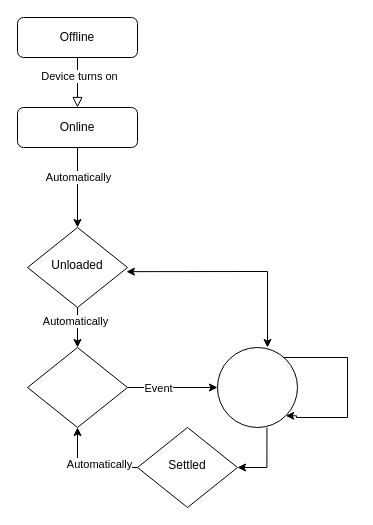
Some shapes in this 373 by 525 pixel diagram are drawn without their labels. The box of each missing label's shape, as (x1, y1, x2, y2) in pixels:
Settling: (216, 346, 298, 428)
Steady: (26, 346, 128, 428)
